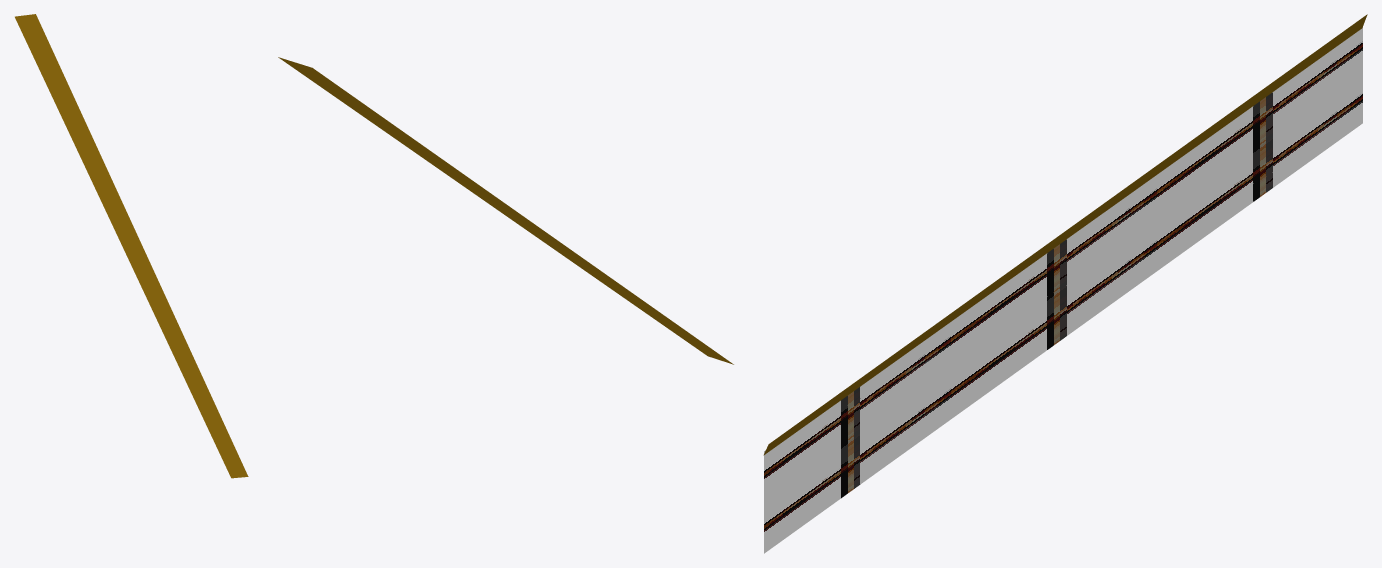
The model's file is TTreppeGeländer_1063.glb.
3 views of the same model, side by side, from view 1: azimuth 30°, elevation 25°; view 2: azimuth 150°, elevation 25°; view 3: azimuth 270°, elevation 25° (orthographic). The views are drawn at different scales.
Visible parts, largest first — view 1: pPlaneShape6; view 2: pPlaneShape6; view 3: pPlaneShape1, pPlaneShape6.
Boxes of the visible parts, x1,y1,x2,y2 form: pPlaneShape6: [15, 14, 248, 478]; pPlaneShape6: [278, 57, 733, 364]; pPlaneShape1: [764, 27, 1362, 553]; pPlaneShape6: [763, 14, 1367, 455].
Bounding box in the file's own units: 0.0264 × 0.493 × 0.5055.
2 materials, 1 textured.
